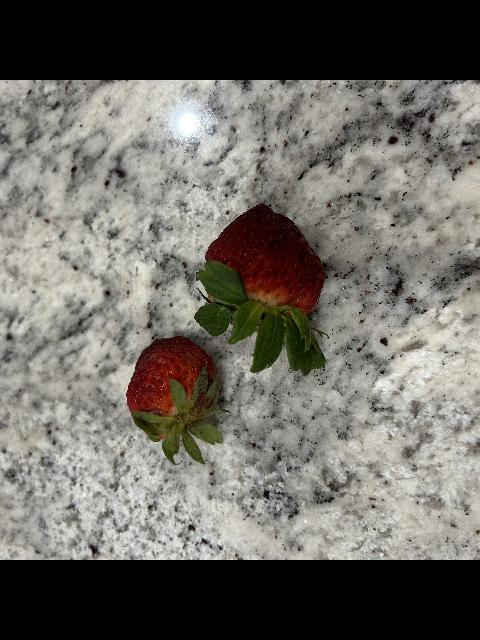Strawberries: (195, 199, 328, 373), (126, 334, 230, 464)
